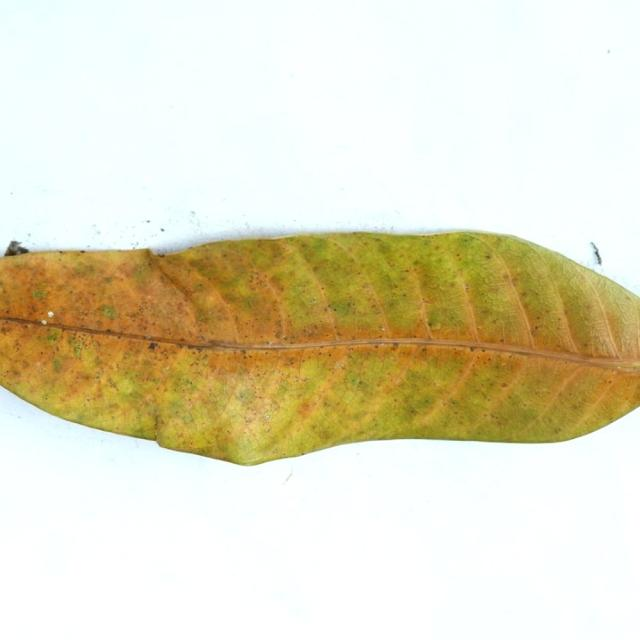Mango: (0, 232, 639, 465)
Powdery_Mildew: (468, 271, 525, 336), (237, 264, 291, 324), (526, 293, 576, 347), (353, 282, 397, 335), (428, 300, 464, 330), (297, 356, 329, 385), (408, 389, 436, 412), (114, 376, 139, 397), (327, 299, 351, 317), (466, 250, 491, 266), (425, 309, 445, 327), (71, 262, 95, 276), (97, 304, 117, 320), (346, 372, 363, 389), (236, 387, 254, 403), (70, 340, 84, 358), (482, 275, 498, 286), (32, 289, 47, 300), (180, 411, 193, 423), (46, 331, 59, 343), (52, 358, 62, 372), (1, 324, 12, 335), (486, 292, 499, 301), (461, 236, 475, 244), (108, 379, 118, 389), (102, 276, 112, 285), (325, 400, 335, 409), (148, 341, 158, 350), (194, 282, 204, 290), (163, 365, 171, 373), (427, 321, 435, 328), (500, 382, 508, 388), (464, 284, 469, 292), (240, 349, 246, 355), (484, 254, 491, 259), (95, 374, 100, 380), (403, 269, 410, 273)
